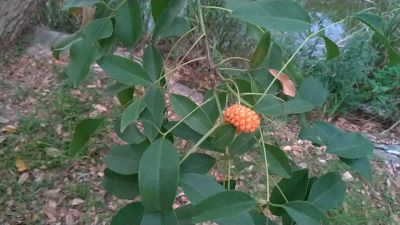eggs: (223, 102, 262, 134)
